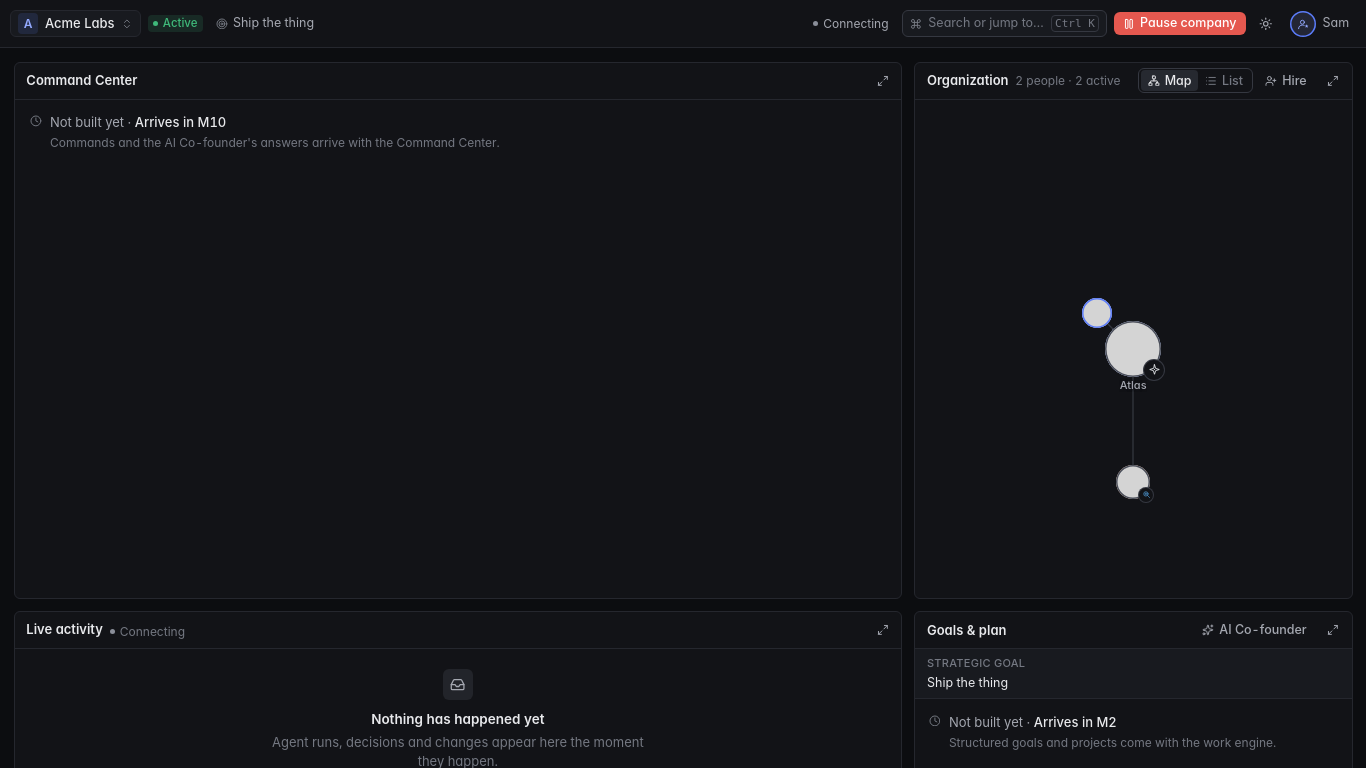
Test: goals & plan widget with the AI Co-founder › has a button to the AI Co-founder view even without a plan
Click the button with aria-label "Open AI Co-founder view" at (1255, 630), box [1193,618,1316,642]
(page scrolled)
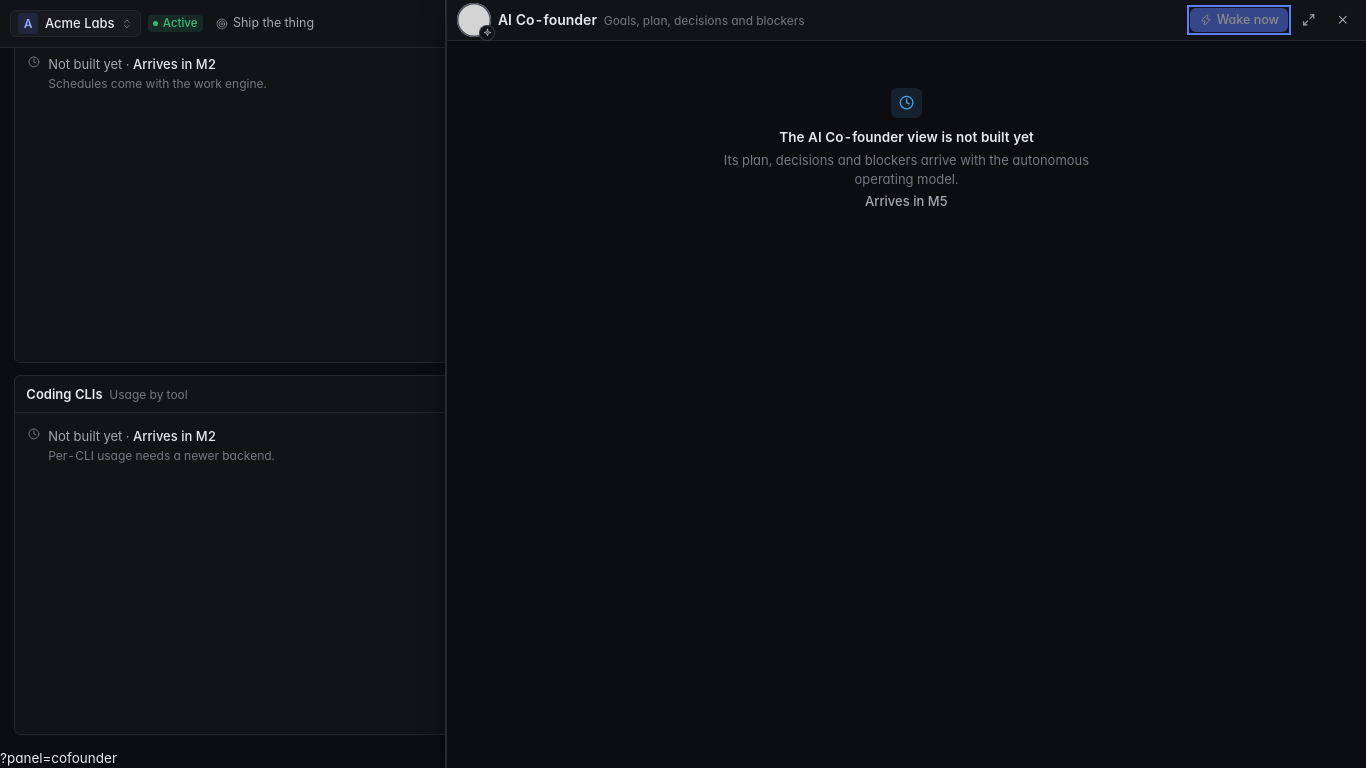
expect the text with test id "loc" reads "?panel=cofounder": met, box [0,750,117,766]
